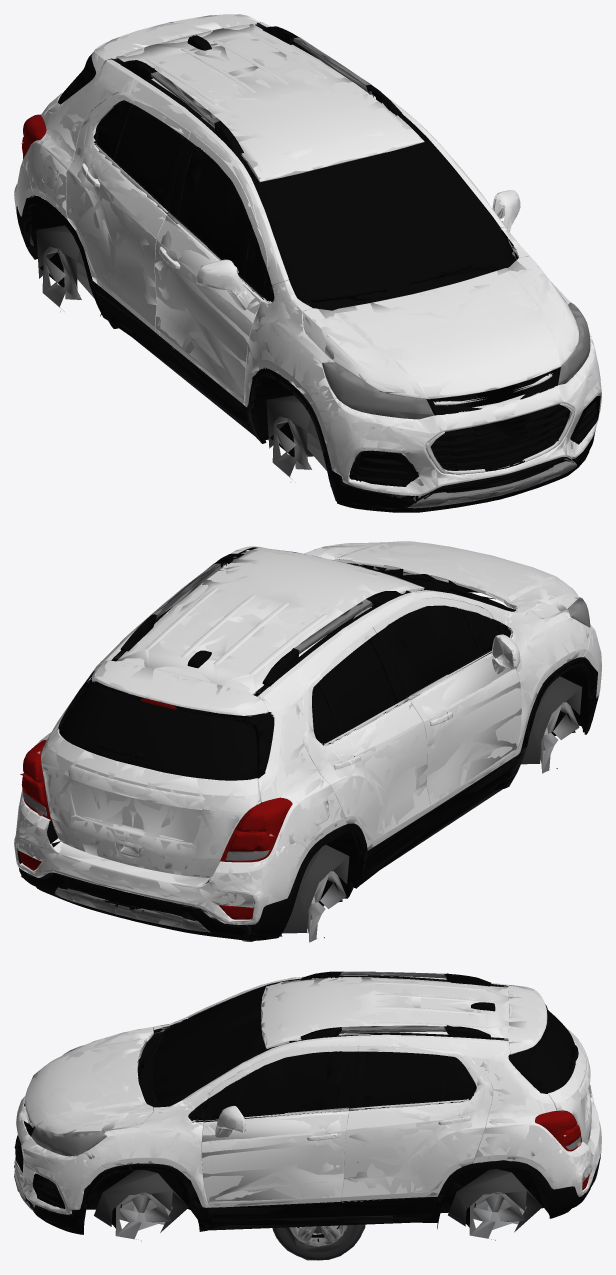
Rendered from suv8.glb.
3 renders of one model, top to bottom at view 1: azimuth 30°, elevation 25°; view 2: azimuth 150°, elevation 25°; view 3: azimuth 270°, elevation 25°, orthographic. The views are drawn at different scales.
Parts seen in each view (by area): view 1: body0, body2, body1; view 2: body0, body2, body1; view 3: body0, body2, body1, wheel0, wheel1.
Boxes of the visible parts, x1,y1,x2,y2 form: body0: [14, 14, 601, 512]; body2: [14, 14, 601, 508]; body1: [14, 14, 601, 512]; body0: [14, 541, 601, 941]; body2: [14, 542, 601, 942]; body1: [14, 543, 601, 940]; body0: [14, 971, 601, 1234]; body2: [14, 971, 601, 1241]; body1: [14, 972, 601, 1234]; wheel0: [272, 1224, 364, 1260]; wheel1: [275, 1224, 365, 1260].
Size of the model in its own units: 2.06 by 2.07 by 4.27.
